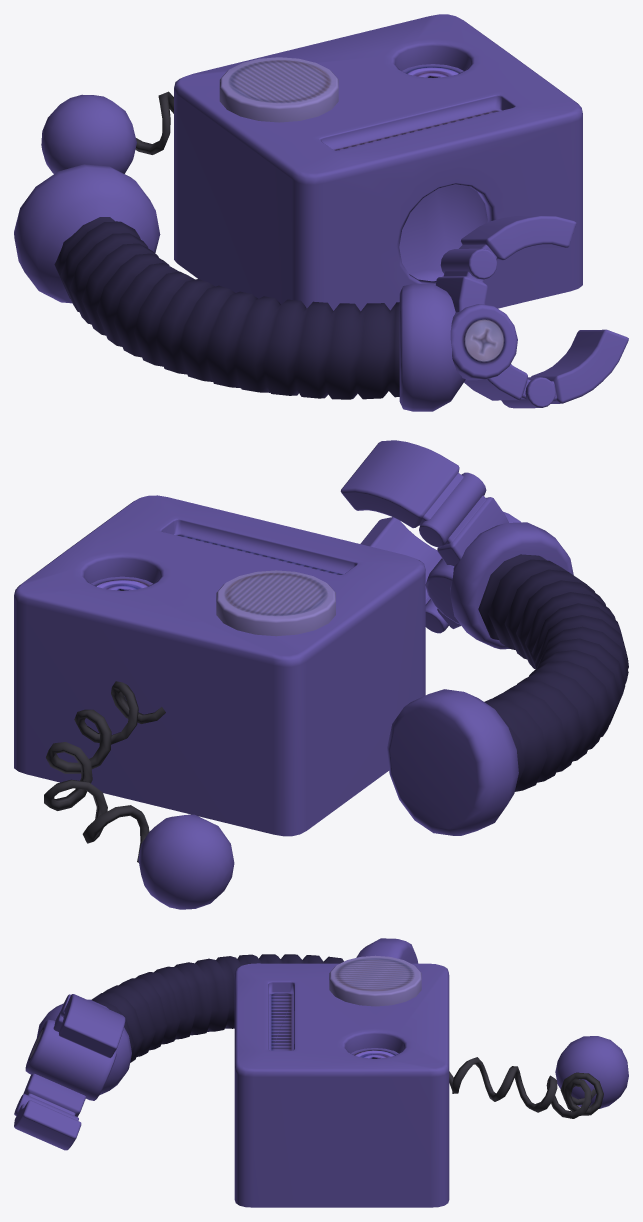
Rendered from Robot.glb.
The picture shows the model from 3 angles, top to bottom: view 1: azimuth 30°, elevation 25°; view 2: azimuth 150°, elevation 25°; view 3: azimuth 270°, elevation 25°; orthographic projection. The views are drawn at different scales.
Parts seen in each view (by area): view 1: Robot.001; view 2: Robot.001; view 3: Robot.001.
Boxes of the visible parts, x1=… form: Robot.001: x1=14, y1=14, x2=628, y2=411; Robot.001: x1=14, y1=440, x2=628, y2=909; Robot.001: x1=14, y1=938, x2=628, y2=1207.
Bounding box in the file's own units: 4.18 × 1.65 × 6.13.
Materials: 1 (1 with a texture image).
